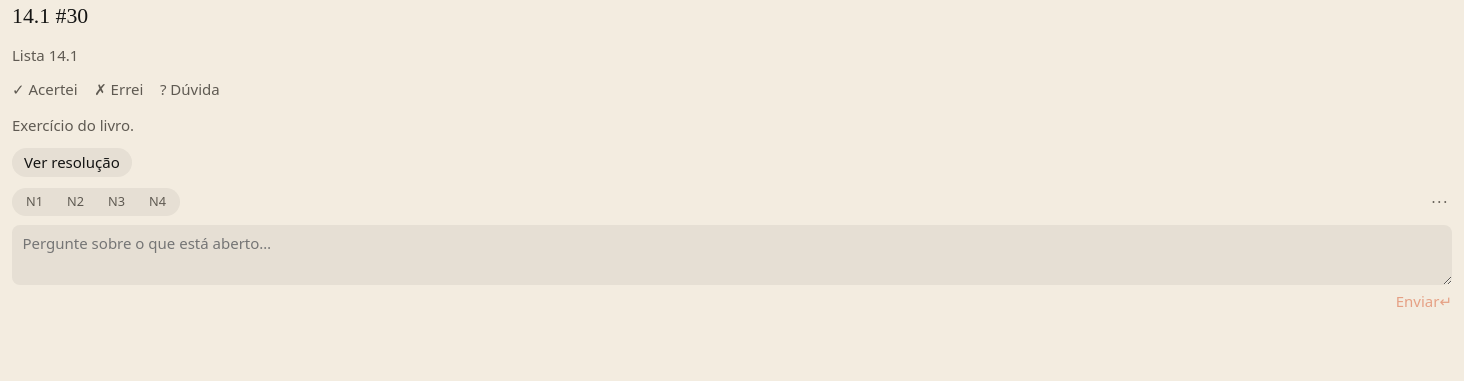
Test: a resolução da questão fica escondida até pedir, e aparece no próprio menu
Check: the text "isole a variável" is not shown
Click the button "Ver resolução" at x=72, y=162, box [12,148,132,177]
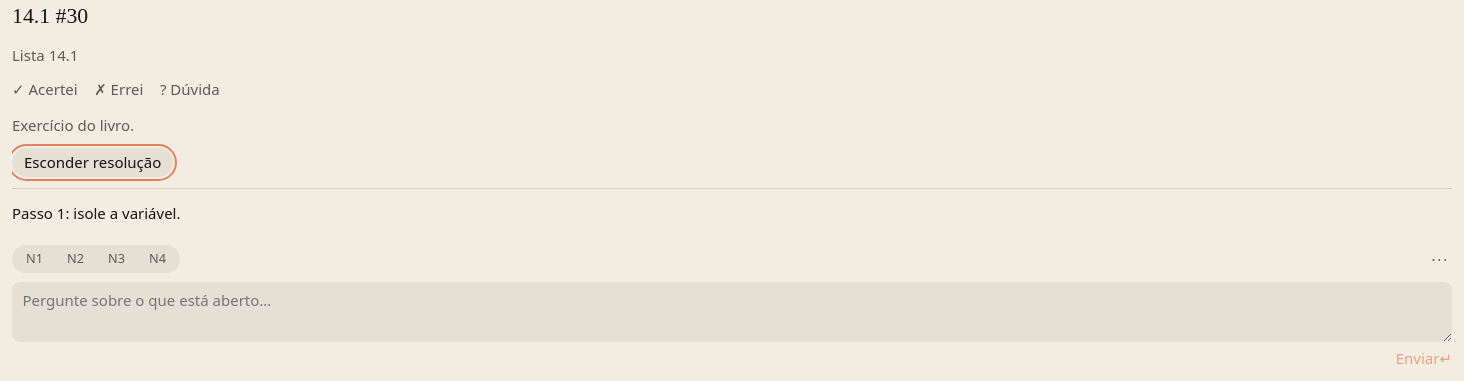
Check: the text "Passo 1: isole a variável." is shown, box [12,203,180,223]
